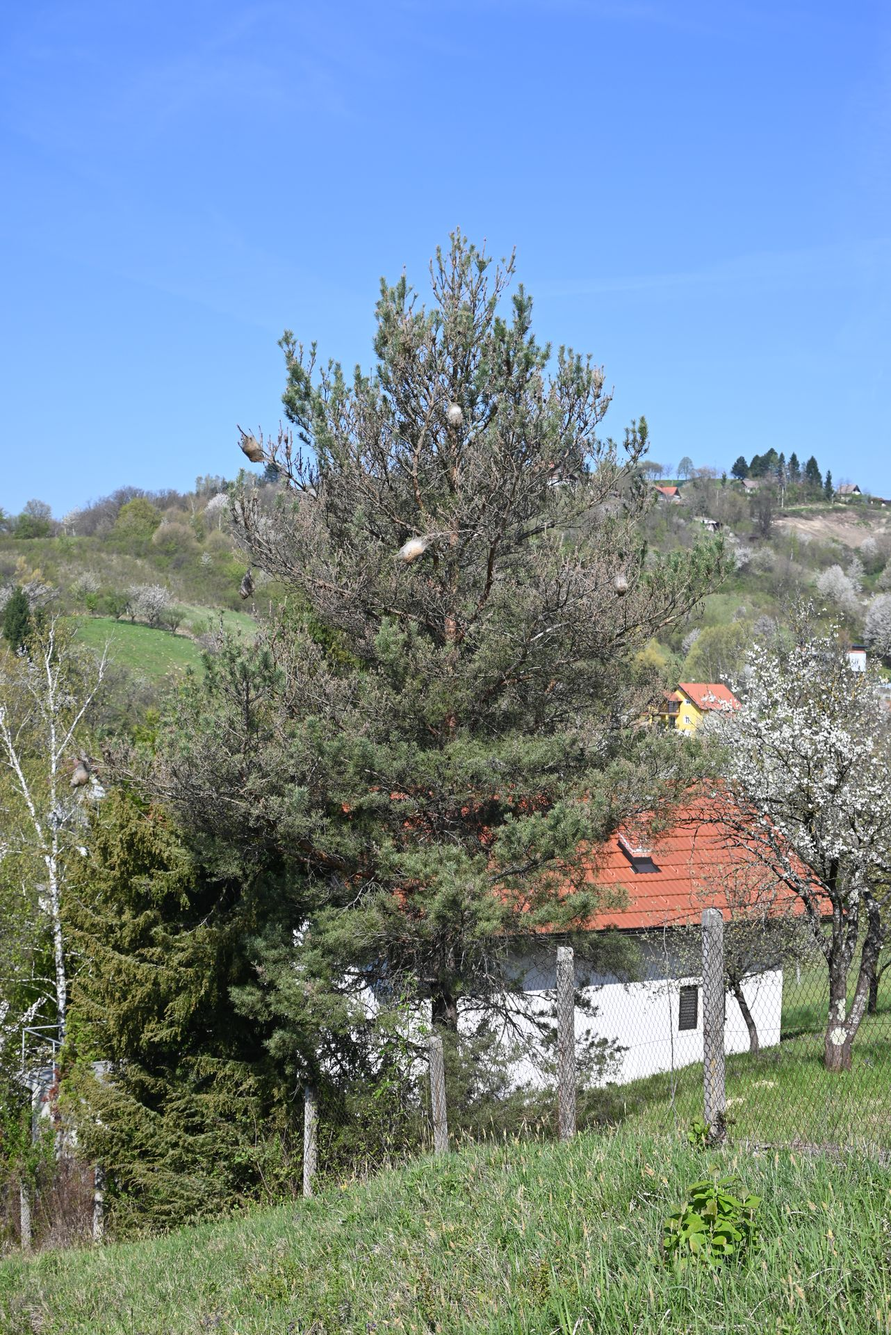thaumatopoea pityocampa jajno gnijezdo: (238, 429, 269, 468), (396, 529, 426, 566), (438, 397, 467, 431), (607, 570, 633, 597), (63, 764, 90, 788), (585, 370, 604, 392)
